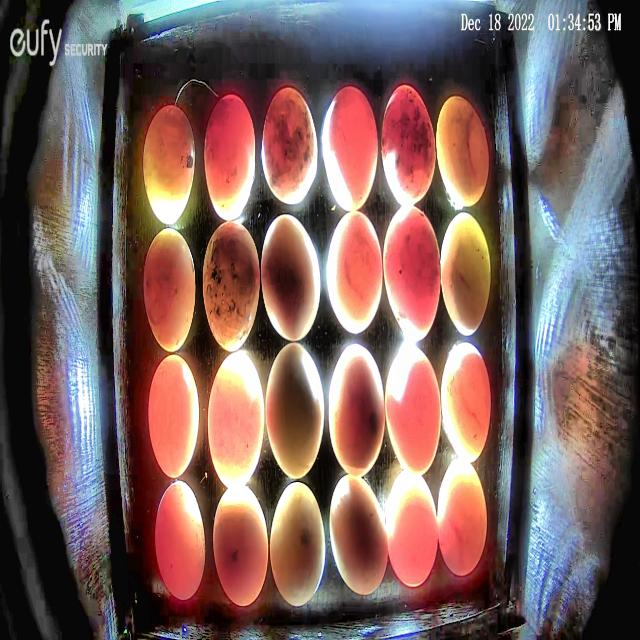DE: (266, 342, 324, 479), (383, 204, 441, 341), (260, 213, 321, 343), (208, 351, 264, 489), (202, 220, 260, 352), (329, 342, 385, 478), (329, 474, 388, 595), (386, 343, 440, 475), (326, 210, 383, 334), (322, 86, 378, 211), (270, 481, 325, 606), (203, 92, 256, 221), (262, 86, 318, 206), (212, 485, 267, 607), (142, 228, 195, 352), (147, 355, 200, 478), (382, 84, 436, 204), (440, 212, 491, 338), (142, 105, 195, 226), (155, 480, 206, 600), (387, 468, 438, 586), (436, 95, 489, 208), (441, 342, 490, 464), (438, 458, 487, 576)
